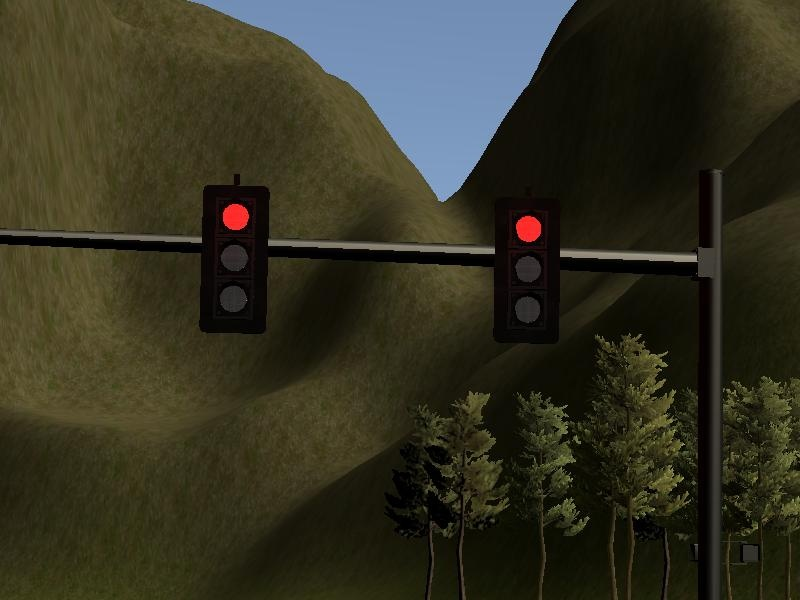red: (496, 198, 558, 343), (202, 186, 263, 331)
